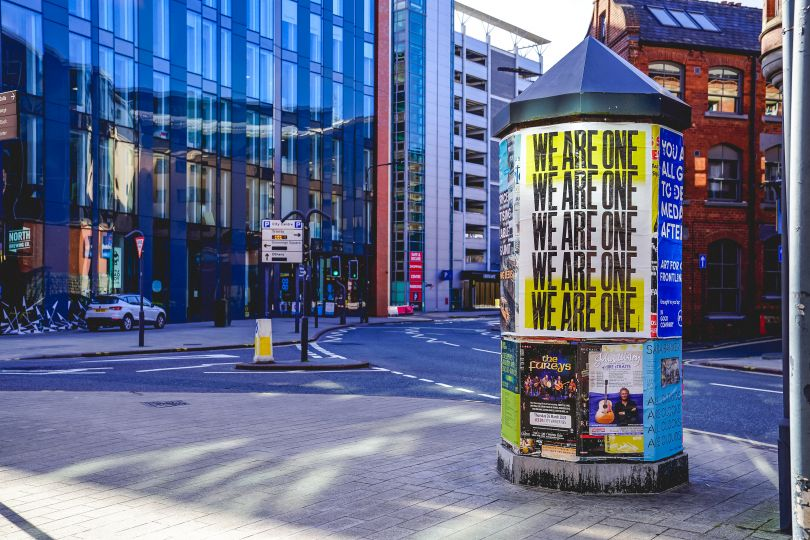poster: (515, 340, 591, 450), (586, 347, 647, 434), (656, 350, 685, 389)
